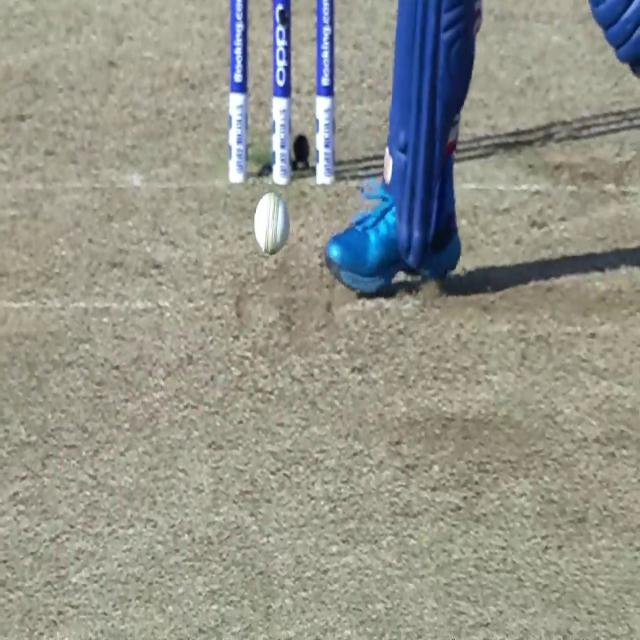ball: (253, 191, 290, 254)
